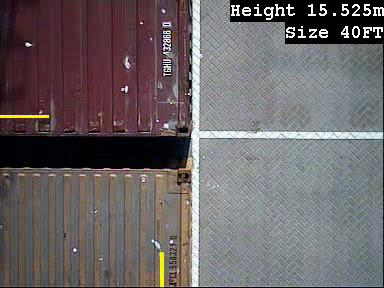groundmarker_2: (200, 124, 241, 183)
